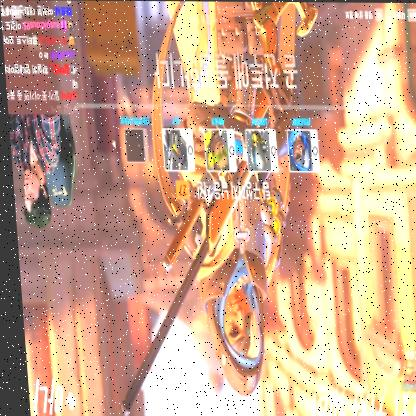streamer: (7, 113, 65, 230)
